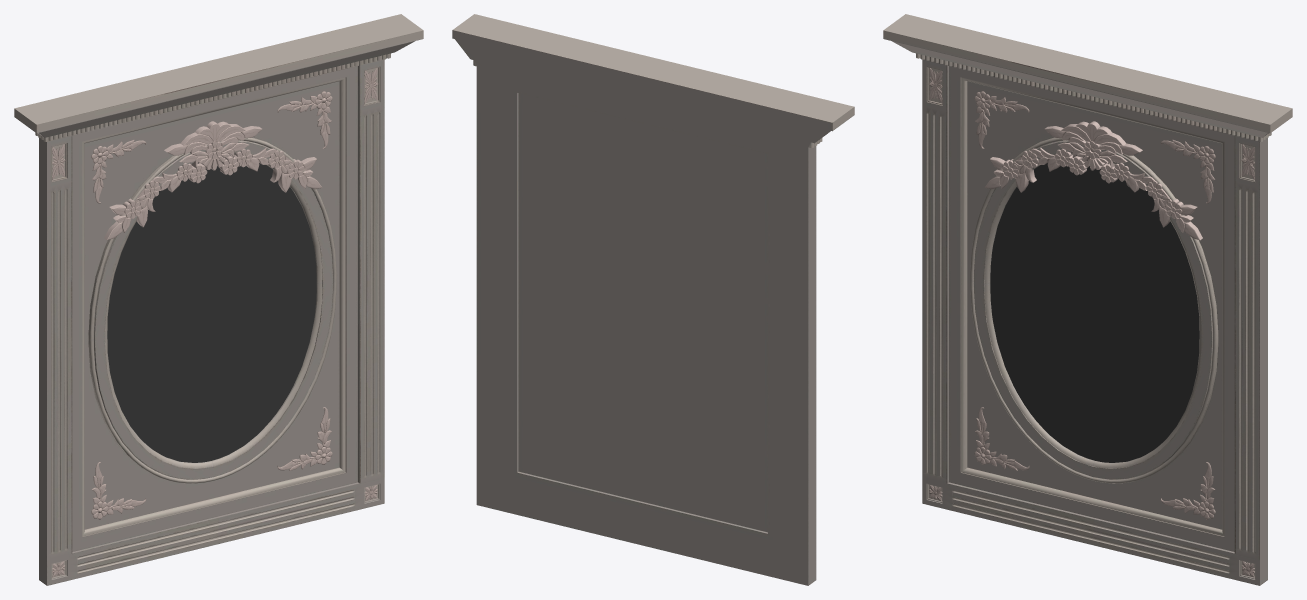
Rendered from example167.glb.
The picture shows the model from 3 angles, left to right: view 1: azimuth 30°, elevation 25°; view 2: azimuth 150°, elevation 25°; view 3: azimuth 330°, elevation 25°; orthographic projection.
Parts seen in each view (by area): view 1: Buffer Layer (×3); view 2: Buffer Layer; view 3: Buffer Layer (×3).
Boxes of the visible parts, x1,y1,x2,y2 form: Buffer Layer (×3): (14,14,423,585); Buffer Layer: (452,14,854,585); Buffer Layer (×3): (883,14,1292,585).
Size of the model in its own units: 0.84 by 0.9906 by 0.0842.
3 materials, 2 textured.
